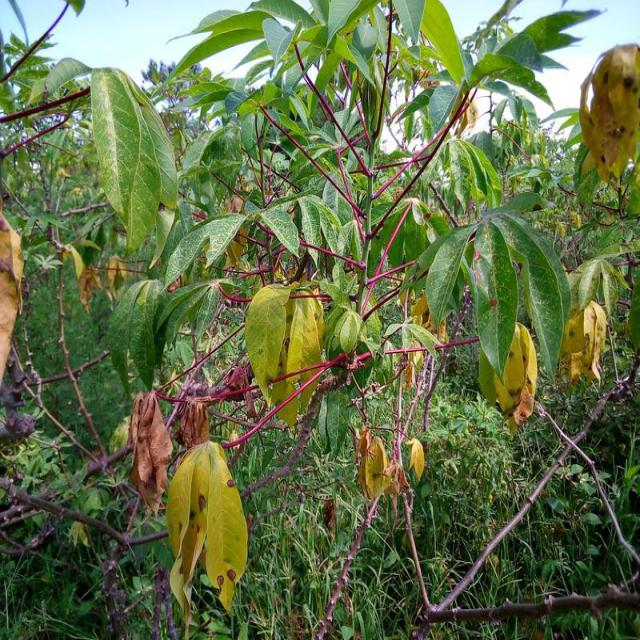cassava leaf: (89, 65, 178, 256), (165, 440, 248, 625), (244, 279, 325, 426), (578, 42, 639, 184)
